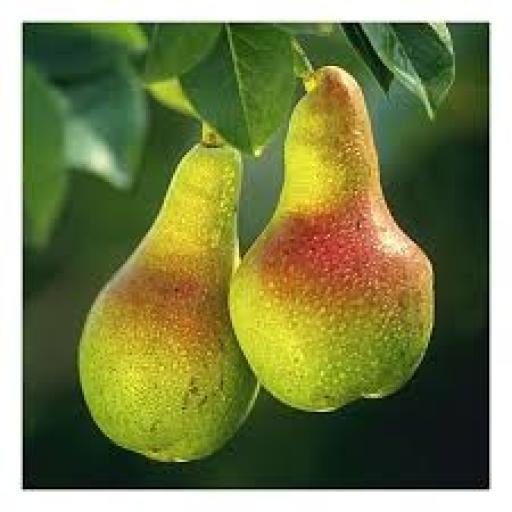Pear: (230, 66, 434, 411), (80, 146, 257, 461)
